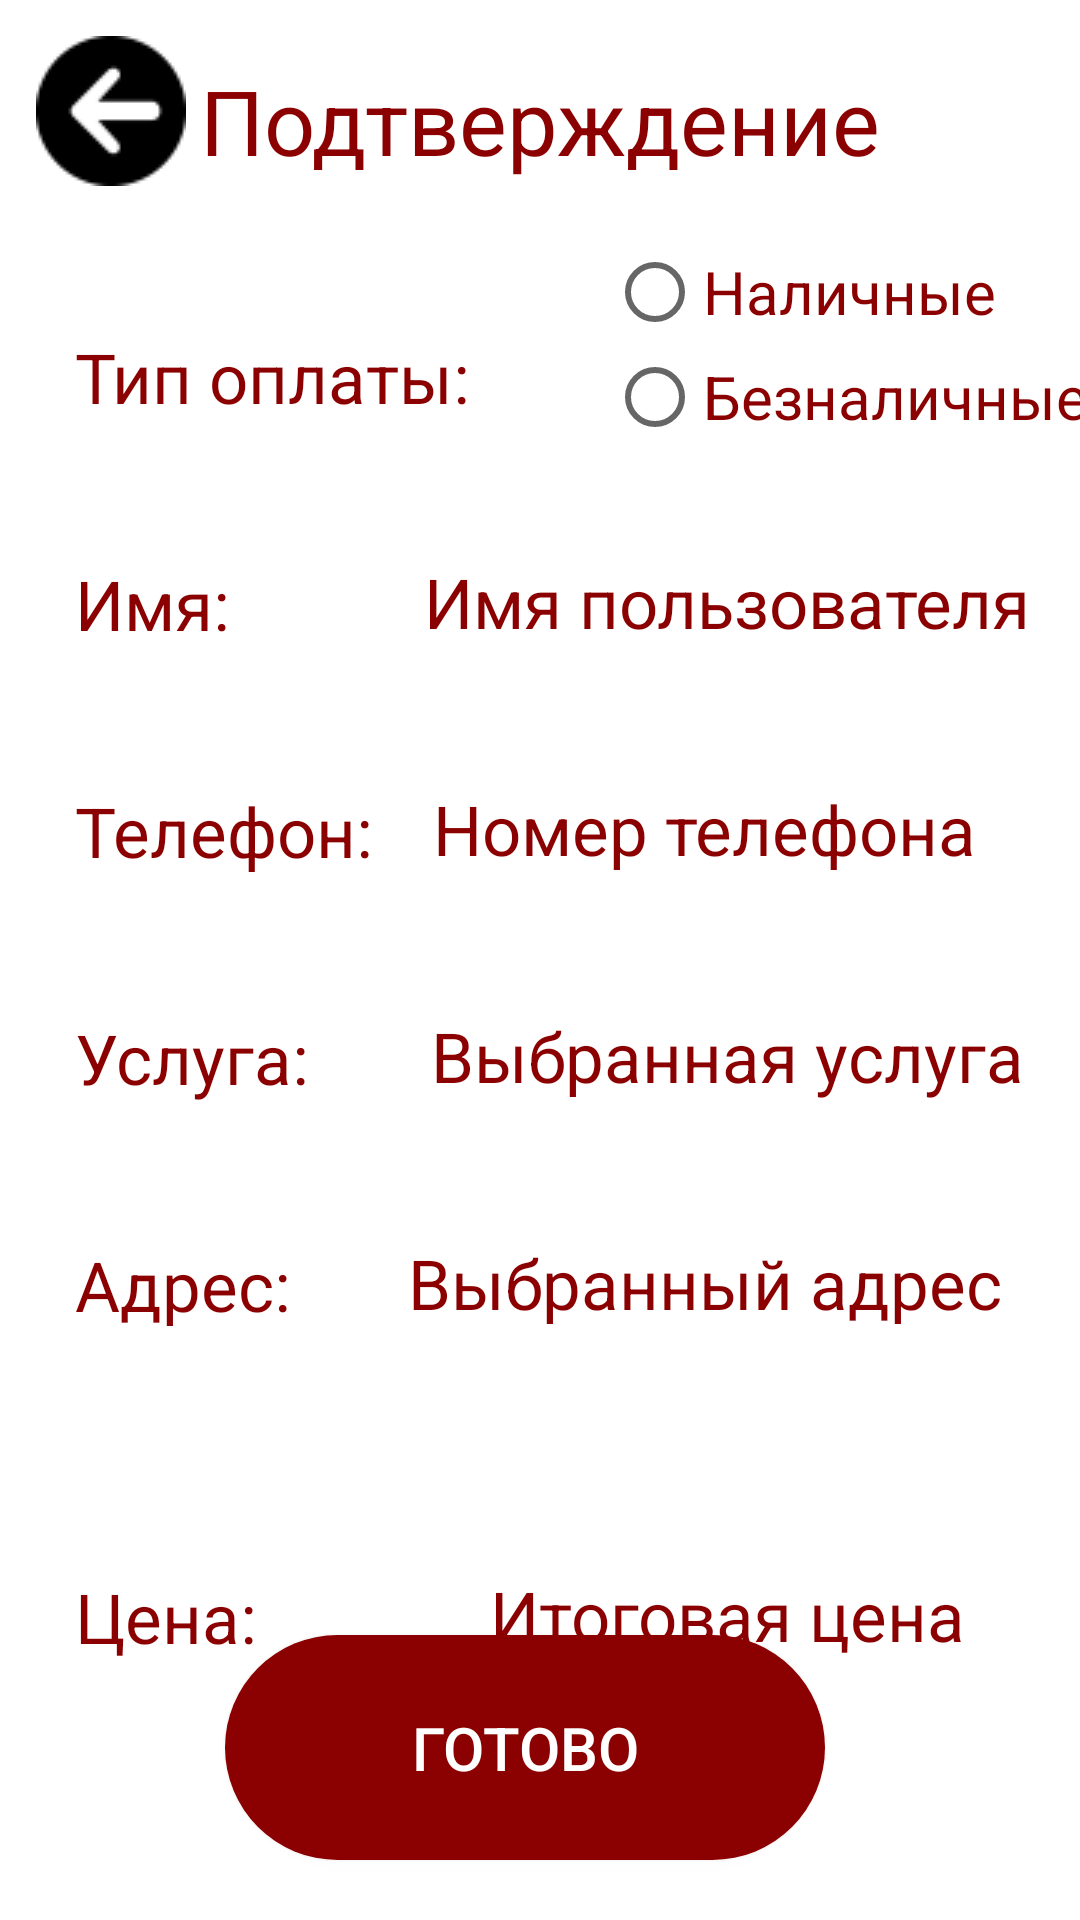

Icon click points for this 1080x1920 phone screenshot, format [x,y]:
back: [111,111]
